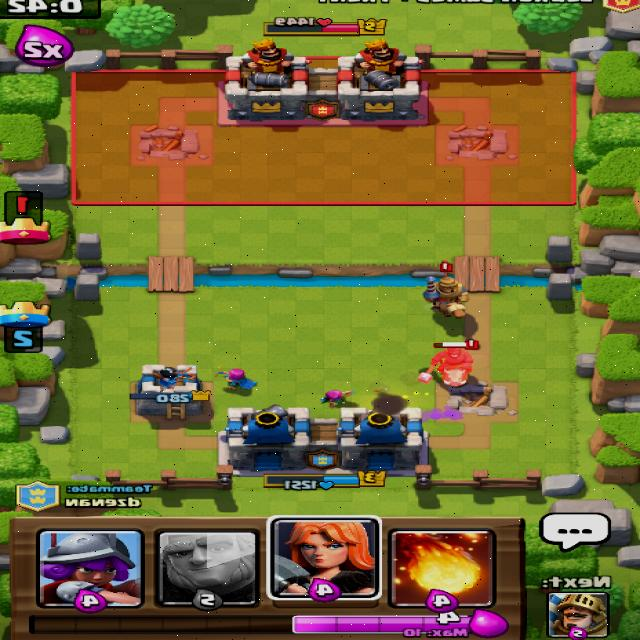Enemy-HogRider: (418, 339, 483, 388)
Enemy-Prince: (423, 260, 472, 319)
Player-Archer: (215, 366, 261, 391), (320, 388, 357, 408)
